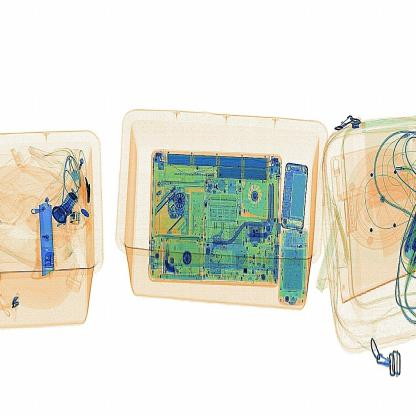pliers: (31, 196, 61, 286)
